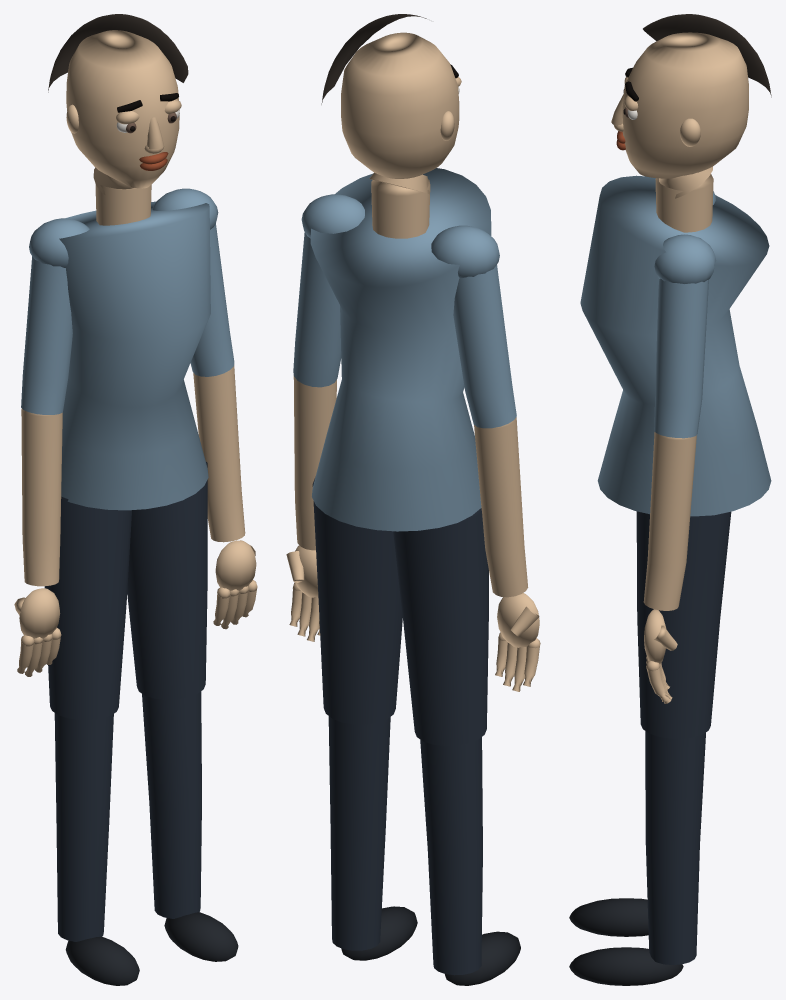
3 renders of one model, left to right at view 1: azimuth 30°, elevation 25°; view 2: azimuth 150°, elevation 25°; view 3: azimuth 270°, elevation 25°, orthographic. The views are drawn at different scales.
Visible parts, largest first — view 1: nabil_fig, nabil_head; view 2: nabil_fig, nabil_head; view 3: nabil_fig, nabil_head.
Boxes of the visible parts, x1=… form: nabil_fig: x1=14, y1=184, x2=257, y2=985; nabil_head: x1=48, y1=14, x2=188, y2=194; nabil_fig: x1=286, y1=168, x2=540, y2=985; nabil_head: x1=321, y1=14, x2=461, y2=194; nabil_fig: x1=569, y1=174, x2=771, y2=985; nabil_head: x1=611, y1=14, x2=771, y2=198.
Size of the model in its own units: 0.4854 by 1.78 by 0.3485.
